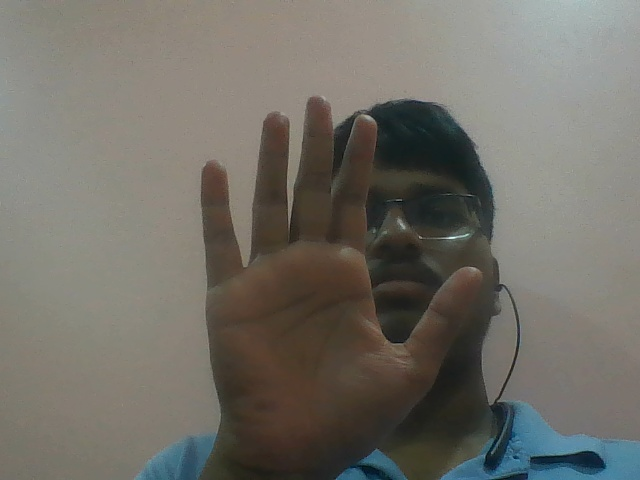Hello: (190, 93, 484, 480)
